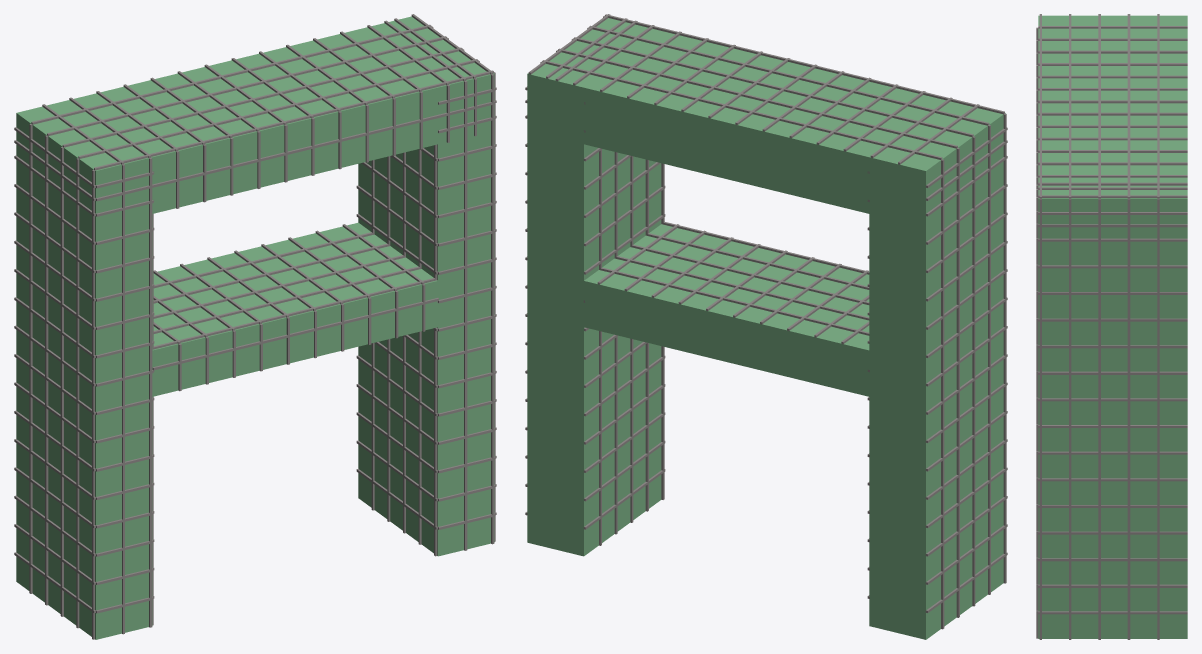
Rendered from store-console-green.glb.
3 renders of one model, left to right at view 1: azimuth 30°, elevation 25°; view 2: azimuth 150°, elevation 25°; view 3: azimuth 270°, elevation 25°, orthographic. The views are drawn at different scales.
Visible parts, largest first — view 1: console-left, console-right, console-top, console-shelf, console-right-front-v-1, console-left-front-v-1, console-right-front-v-0, console-left-left-z-0, console-left-left-z-2, console-left-left-z-3, console-left-left-z-1, console-top-front-h-0 (+19 smaller); view 2: console-left, console-right, console-top, console-shelf, console-left-left-z-2, console-left-left-z-1, console-left-left-z-0, console-left-left-z-4, console-left-left-z-3, console-top-top-z-4, console-top-top-z-0, console-top-top-z-2 (+12 smaller); view 3: console-right, console-top, console-left, console-right-right-z-1, console-right-right-z-2, console-right-right-z-0, console-right-right-z-3, console-right-right-z-4, console-right-front-v-1, console-top-top-z-1, console-right-right-y-2, console-right-right-y-9 (+35 smaller).
Boxes of the visible parts, x1,y1,x2,y2 form: console-left: (16, 100, 152, 639); console-right: (358, 16, 494, 556); console-top: (16, 16, 494, 223); console-shelf: (152, 222, 437, 396); console-right-front-v-1: (491, 74, 494, 544); console-left-front-v-1: (149, 158, 152, 627); console-right-front-v-0: (464, 81, 467, 550); console-left-left-z-0: (29, 124, 32, 593); console-left-left-z-2: (60, 147, 63, 616); console-left-left-z-3: (76, 158, 79, 628); console-left-left-z-1: (45, 135, 48, 605); console-top-front-h-0: (96, 101, 495, 201); console-left: (869, 101, 1005, 639); console-right: (527, 18, 661, 556); console-top: (527, 18, 1005, 226); console-shelf: (584, 224, 869, 396); console-left-left-z-2: (972, 136, 975, 606); console-left-left-z-1: (956, 148, 959, 617); console-left-left-z-0: (941, 159, 944, 629); console-left-left-z-4: (1003, 113, 1006, 583); console-left-left-z-3: (988, 125, 990, 594); console-top-top-z-4: (605, 15, 1003, 113); console-top-top-z-0: (543, 60, 940, 159); console-top-top-z-2: (575, 37, 973, 136); console-right: (1038, 172, 1187, 638); console-top: (1038, 15, 1187, 249); console-left: (1038, 15, 1187, 41); console-right-right-z-1: (1127, 198, 1130, 639); console-right-right-z-2: (1098, 198, 1100, 639); console-right-right-z-0: (1157, 198, 1159, 639); console-right-right-z-3: (1069, 198, 1071, 639); console-right-right-z-4: (1039, 198, 1041, 639); console-right-front-v-1: (1036, 197, 1038, 638); console-top-top-z-1: (1127, 14, 1130, 196); console-right-right-y-2: (1038, 558, 1187, 561); console-right-right-y-9: (1038, 371, 1187, 374).
Size of the model in its own units: 0.8175 by 0.9137 by 0.2837.
